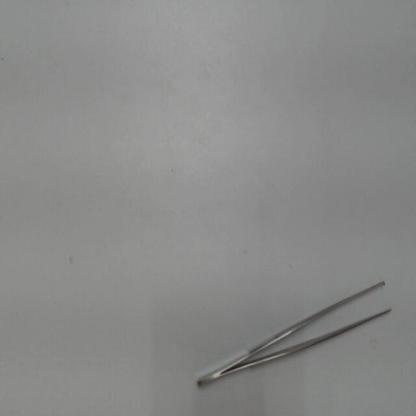Gillies Toothed Dissector: (187, 270, 400, 402)
